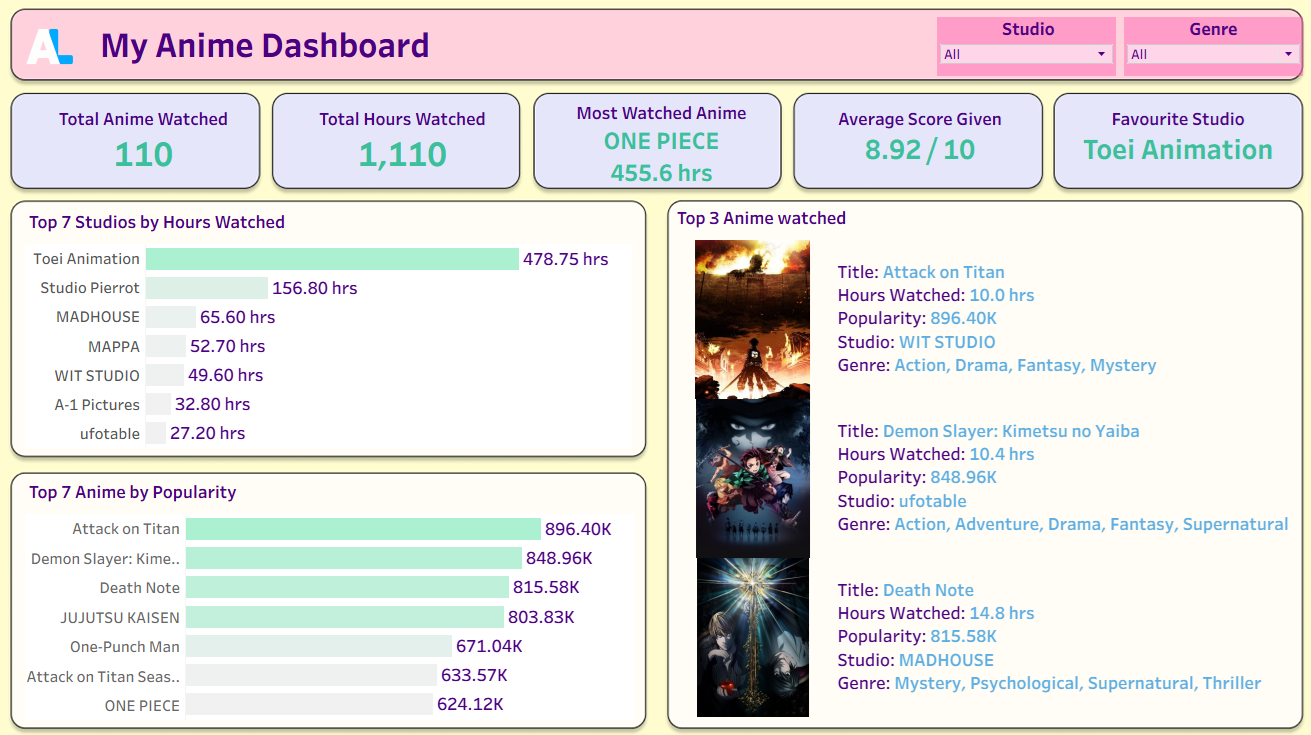

The page's visual inventory and layout, read from the dashboard file:
{"tool":"tableau","page":{"name":"Dashboard 1","canvas":[1366,768],"ordinal":0},"visuals":[{"type":"image","param":"Image/My Anime Dashboard BG_1.png","box":[8,8,1350,752]},{"type":"image","param":"Image/icon.svg","box":[31.9,26.9,76,67.2]},{"type":"worksheet","title":"My Anime Dashboard","mark":"Automatic","box":[107.9,26.9,841,67.2]},{"type":"parameter","param":"[Parameters].[Parameter 2]","box":[948.9,26.9,186.9,67.2]},{"type":"parameter","param":"[Parameters].[Parameter 1]","box":[1135.8,26.9,186.9,67.2]},{"type":"worksheet","title":"Total Anime Watched","mark":"Automatic","box":[30,106,259,98]},{"type":"worksheet","title":"Total Hours Watched","mark":"Automatic","box":[289,106,259,98]},{"type":"worksheet","title":"Most Watched Anime","mark":"Text","box":[548,106,259,98]},{"type":"worksheet","title":"Average Score Given","mark":"Automatic","box":[807,106,258,98]},{"type":"worksheet","title":"Favourite Studio","mark":"Text","box":[1065,106,258,98]},{"type":"worksheet","title":"Top 3 Anime","mark":"Text","rows":["Calculation_1232297491467657227"],"box":[688.7,215,631.8,526.1]},{"type":"worksheet","title":"Top 7 Studios","mark":"Bar","rows":["studio"],"cols":["Calculation_1232297491372716035"],"box":[30.7,217,627.2,255.4]},{"type":"worksheet","title":"Top 7 Anime by Pop","mark":"Bar","rows":["Calculation_1232297491369115648"],"cols":["popularity"],"box":[30.7,488.6,629.5,255.4]}]}

Visuals, with their boxes in screenshot pixels (x1, y1, x2, y2), scaled from the page's 1366x768 canvas onto the 1311x735 screenshot:
image: locate(8, 8, 1303, 727)
image: locate(31, 26, 104, 90)
"My Anime Dashboard" worksheet: locate(104, 26, 911, 90)
parameter: locate(911, 26, 1090, 90)
parameter: locate(1090, 26, 1269, 90)
"Total Anime Watched" worksheet: locate(29, 101, 277, 195)
"Total Hours Watched" worksheet: locate(277, 101, 526, 195)
"Most Watched Anime" worksheet (Text marks): locate(526, 101, 775, 195)
"Average Score Given" worksheet: locate(775, 101, 1022, 195)
"Favourite Studio" worksheet (Text marks): locate(1022, 101, 1270, 195)
"Top 3 Anime" worksheet (Text marks): locate(661, 206, 1267, 709)
"Top 7 Studios" worksheet (Bar marks): locate(29, 208, 631, 452)
"Top 7 Anime by Pop" worksheet (Bar marks): locate(29, 468, 634, 712)
